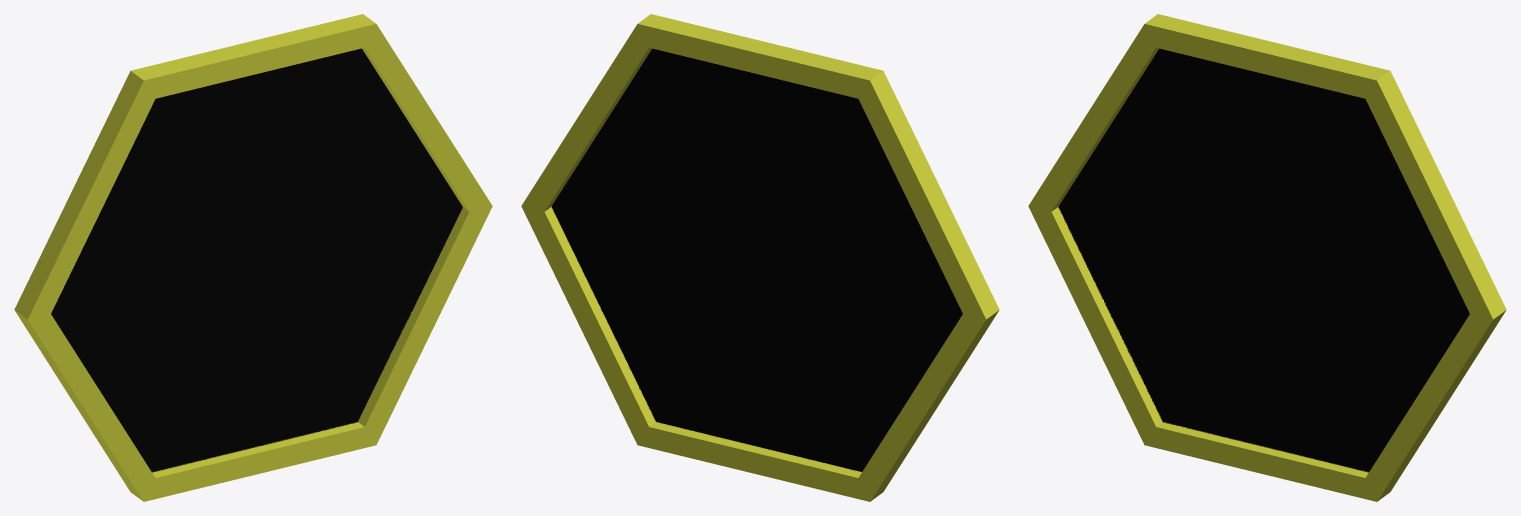
Rendered from hexagon.fbx.
The picture shows the model from 3 angles, left to right: view 1: azimuth 30°, elevation 25°; view 2: azimuth 150°, elevation 25°; view 3: azimuth 330°, elevation 25°; orthographic projection.
Visible parts, largest first — view 1: hexagon; view 2: hexagon; view 3: hexagon.
Part boxes in pixels (x1,y1,x2,y2): hexagon: [14, 14, 492, 501]; hexagon: [521, 14, 999, 501]; hexagon: [1028, 14, 1506, 501].
Size of the model in its own units: 4 by 3.46 by 0.2.
